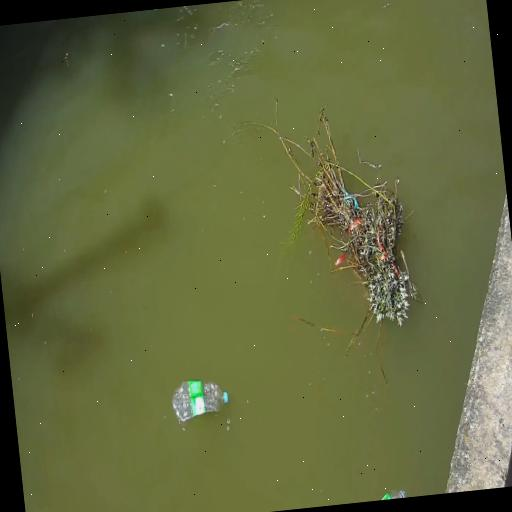plastic: (173, 381, 228, 422), (382, 490, 405, 499), (224, 392, 228, 403)
twig: (241, 99, 420, 348)
